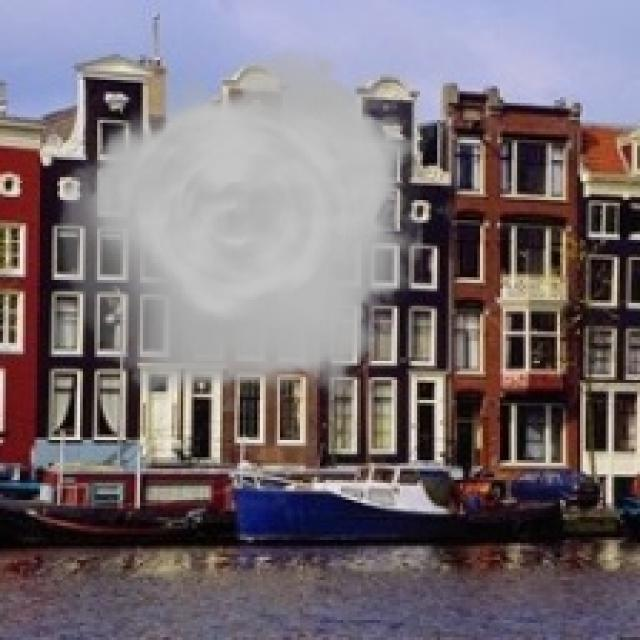smoke: (57, 37, 423, 412)
